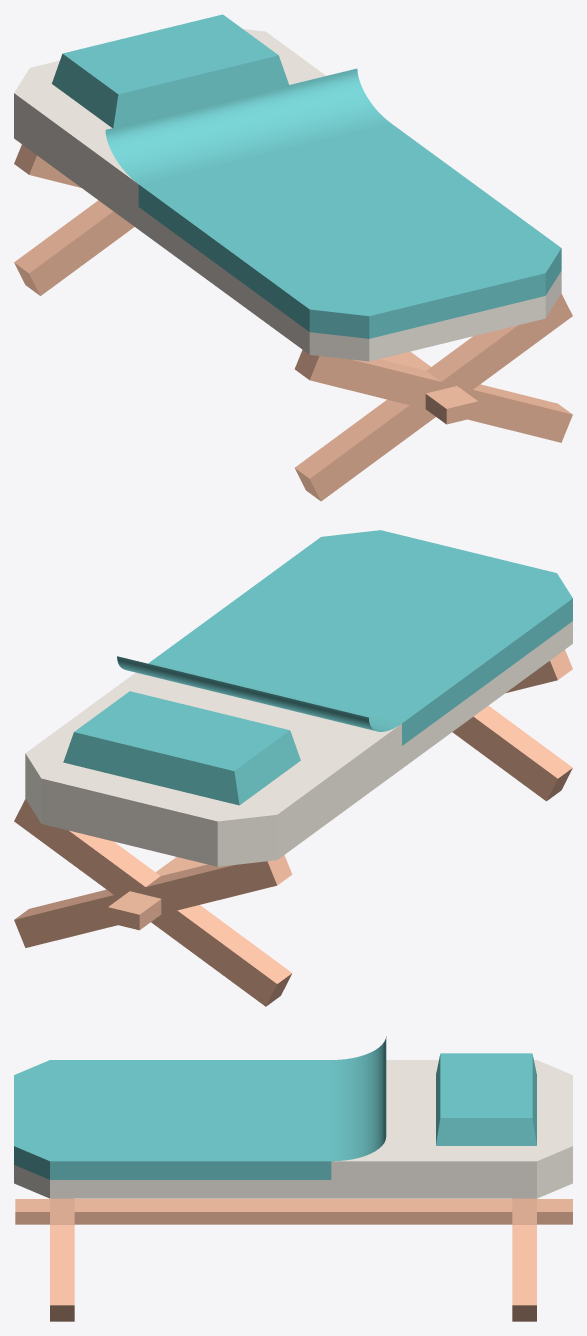
File: bed.gltf
3 renders of one model, top to bottom at view 1: azimuth 30°, elevation 25°; view 2: azimuth 150°, elevation 25°; view 3: azimuth 270°, elevation 25°, orthographic. The views are drawn at different scales.
Visible parts, largest first — view 1: bed; view 2: bed; view 3: bed.
Boxes of the visible parts, bbox=[...] form: bed: bbox=[14, 14, 572, 501]; bed: bbox=[14, 530, 572, 1006]; bed: bbox=[14, 1036, 572, 1321].
Bounding box in the file's own units: 0.3349 × 0.2737 × 0.7473.
